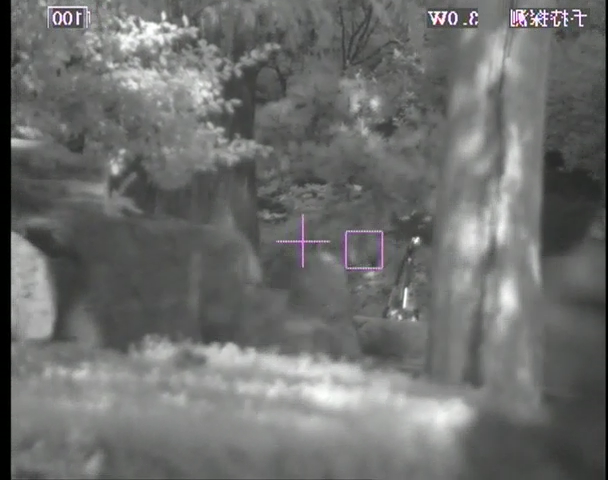my: (411, 236, 421, 246)
